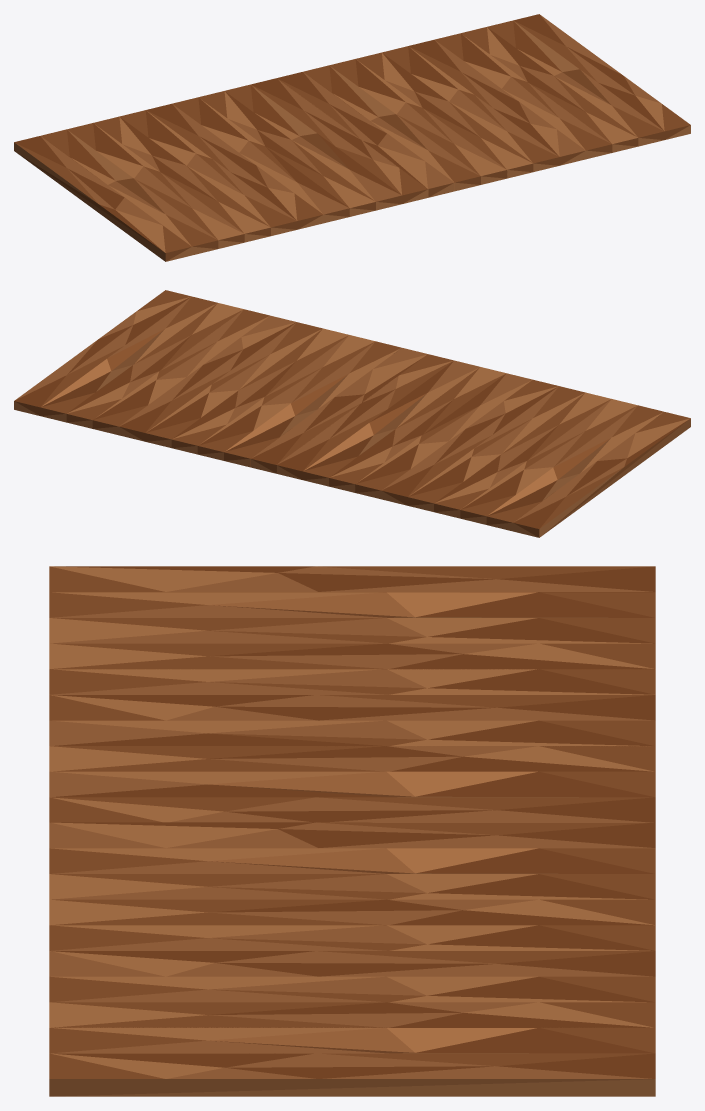
File: Boadwalk_Lighter_edge.fbx
3 renders of one model, top to bottom at view 1: azimuth 30°, elevation 25°; view 2: azimuth 150°, elevation 25°; view 3: azimuth 270°, elevation 25°, orthographic. The views are drawn at different scales.
Parts seen in each view (by area): view 1: polySurface5336; view 2: polySurface5336; view 3: polySurface5336.
Part boxes in pixels (<box>): polySurface5336: <box>14,14,690,261</box>; polySurface5336: <box>14,290,690,537</box>; polySurface5336: <box>49,566,655,1096</box>.
Size of the model in its own units: 800 by 12.74 by 400.
